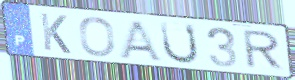3: (205, 26, 238, 68)
A: (117, 19, 165, 64)
K: (37, 11, 73, 55)
O: (78, 15, 117, 58)
R: (242, 29, 286, 72)
U: (159, 20, 201, 66)
